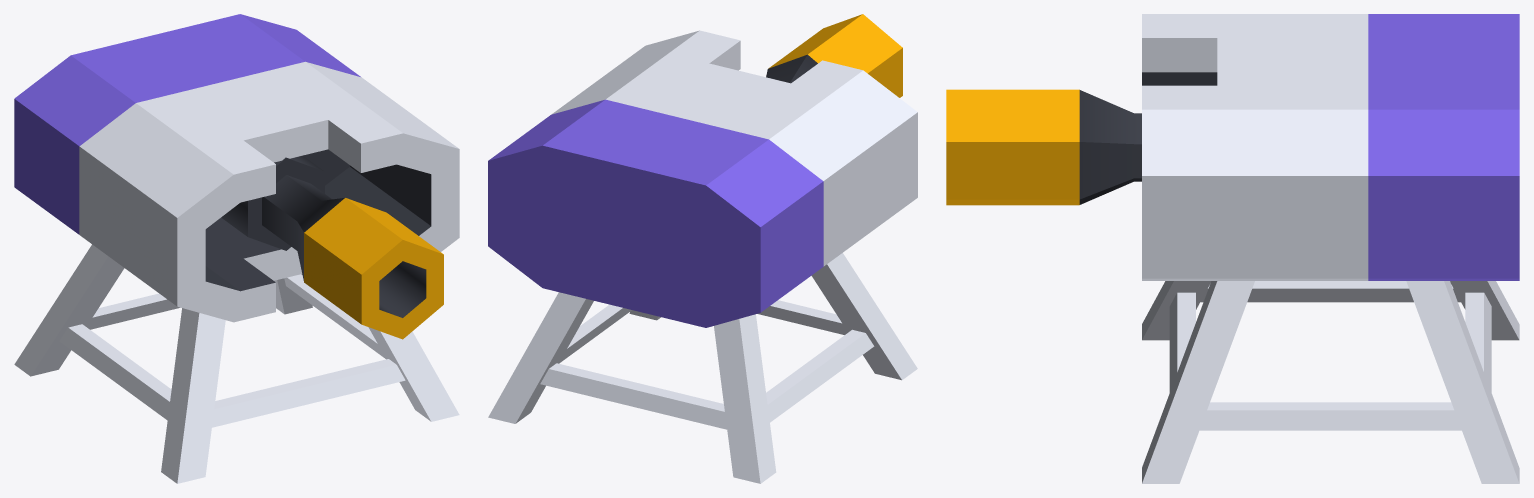
Rendered from ground_turret.obj.
3 renders of one model, left to right at view 1: azimuth 30°, elevation 25°; view 2: azimuth 150°, elevation 25°; view 3: azimuth 270°, elevation 25°, orthographic. The views are drawn at different scales.
Parts seen in each view (by area): view 1: engine_low, gear_slantEnforced, chimney_medium; view 2: engine_low, gear_slantEnforced, chimney_medium; view 3: engine_low, gear_slantEnforced, chimney_medium.
Boxes of the visible parts, bbox=[...] form: engine_low: bbox=[14, 14, 459, 322]; gear_slantEnforced: bbox=[14, 244, 459, 483]; chimney_medium: bbox=[221, 155, 443, 339]; engine_low: bbox=[488, 30, 917, 327]; gear_slantEnforced: bbox=[488, 253, 917, 483]; chimney_medium: bbox=[766, 14, 902, 97]; engine_low: bbox=[1142, 14, 1519, 280]; gear_slantEnforced: bbox=[1142, 281, 1519, 483]; chimney_medium: bbox=[946, 89, 1141, 205].
Size of the model in its own units: 1 by 1 by 1.52.
